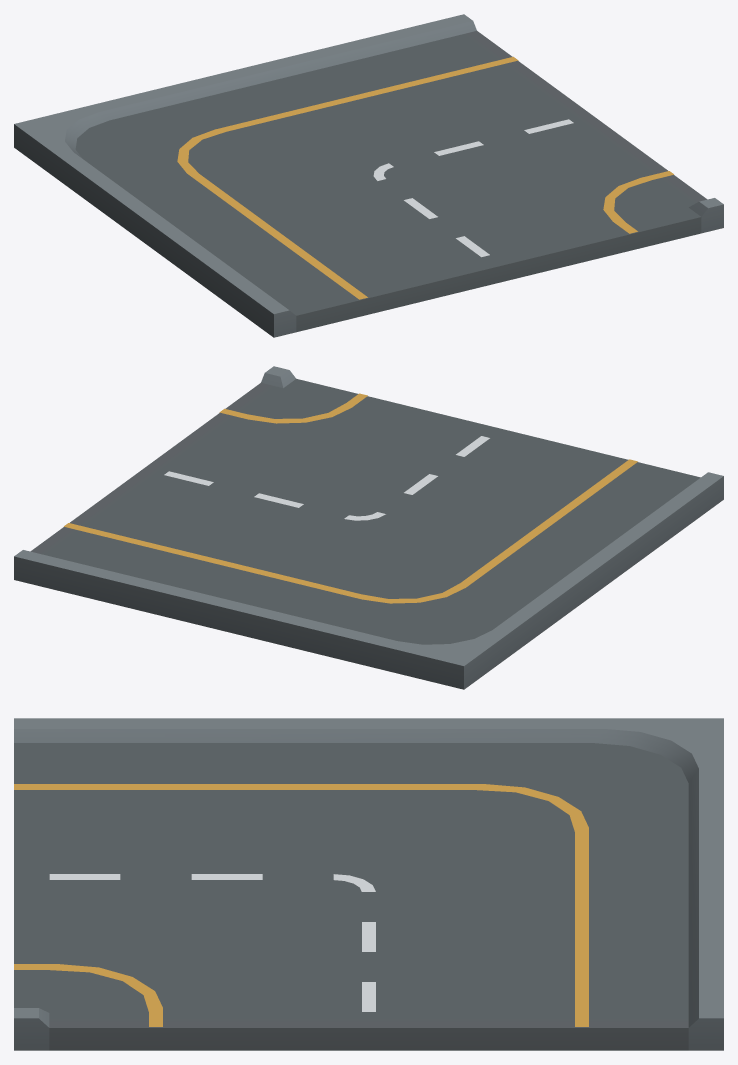
The picture shows the model from 3 angles, top to bottom: view 1: azimuth 30°, elevation 25°; view 2: azimuth 150°, elevation 25°; view 3: azimuth 270°, elevation 25°; orthographic projection. The views are drawn at different scales.
Parts seen in each view (by area): view 1: road_corner; view 2: road_corner; view 3: road_corner.
Boxes of the visible parts, left/top/right/bottom form: road_corner: left=14, top=14, right=723, bottom=337; road_corner: left=14, top=366, right=723, bottom=689; road_corner: left=14, top=718, right=723, bottom=1050.
Size of the model in its own units: 2 by 0.1 by 2.
1 material, 1 textured.
